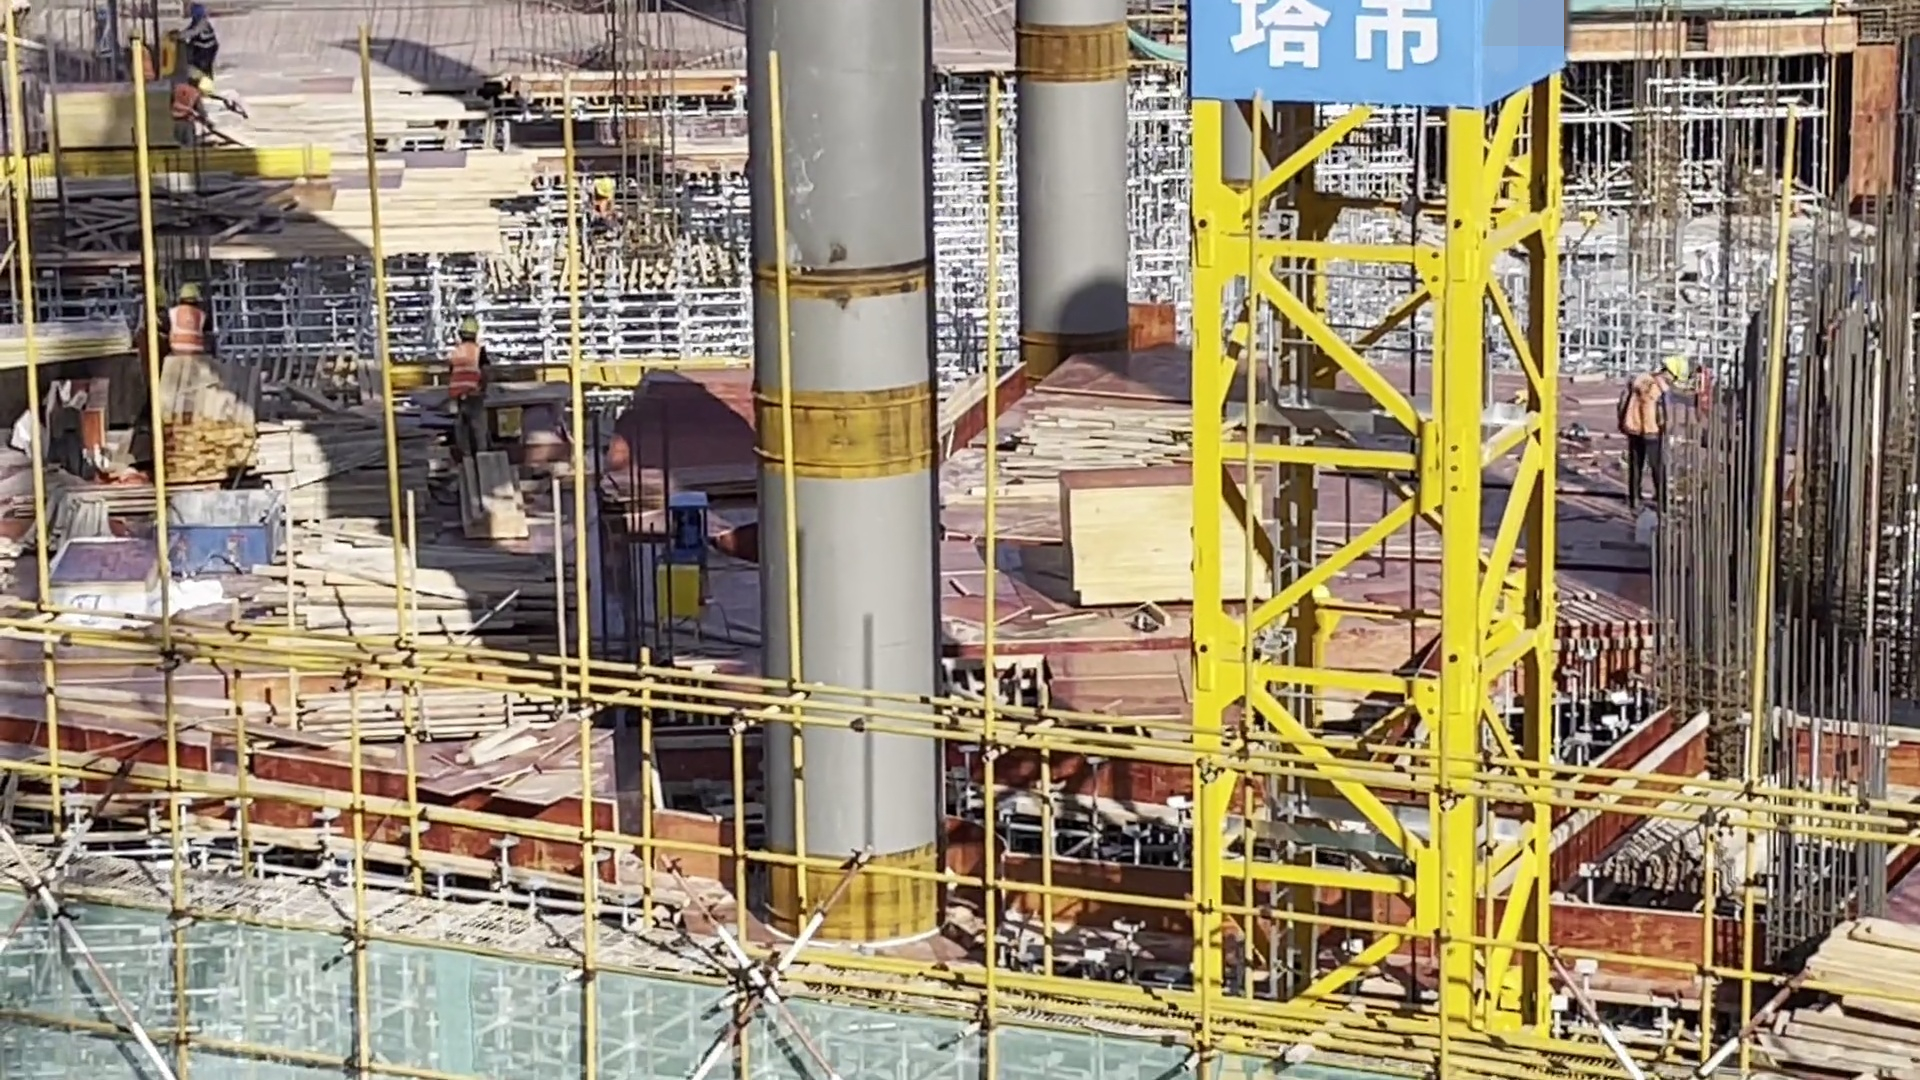board: (1054, 468, 1270, 620), (1, 305, 137, 399), (41, 74, 168, 172)
helmet: (1662, 355, 1691, 389), (456, 316, 482, 350), (592, 173, 615, 200), (180, 281, 201, 309), (186, 1, 210, 22), (199, 72, 213, 99)
hopper: (165, 478, 283, 580)
person: (1618, 356, 1688, 505), (444, 313, 495, 429), (169, 63, 216, 158), (159, 283, 218, 359), (176, 3, 224, 79), (586, 174, 623, 241)
slogan: (1193, 1, 1571, 116)
vest: (1620, 370, 1670, 448), (164, 303, 214, 356), (446, 344, 488, 405), (184, 27, 223, 66), (171, 79, 202, 121)
wood: (279, 514, 573, 642), (151, 353, 269, 487), (459, 451, 534, 542)
